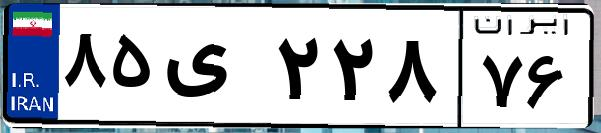2: (270, 28, 330, 110), (330, 28, 385, 110)
5: (110, 28, 158, 98)
6: (525, 38, 570, 115)
7: (475, 38, 525, 113)
8: (385, 28, 445, 110), (57, 26, 110, 100)
ی: (158, 20, 270, 120)
